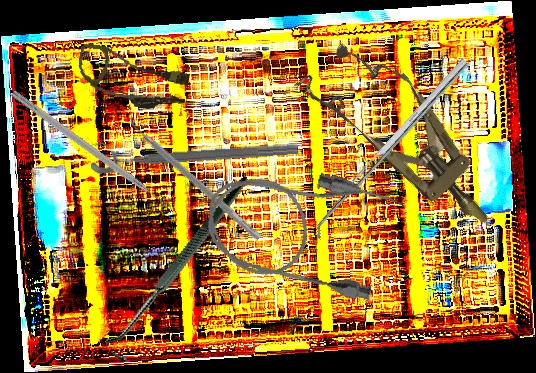Cannula: (196, 151, 407, 305), (73, 42, 192, 115)
Chopper: (4, 89, 172, 219)
Fixation Ring: (89, 126, 299, 175)
Hook Surgical: (67, 176, 295, 366)
Spatula Surgical: (308, 58, 477, 242), (123, 112, 268, 242)
Speculum: (293, 24, 518, 252)
